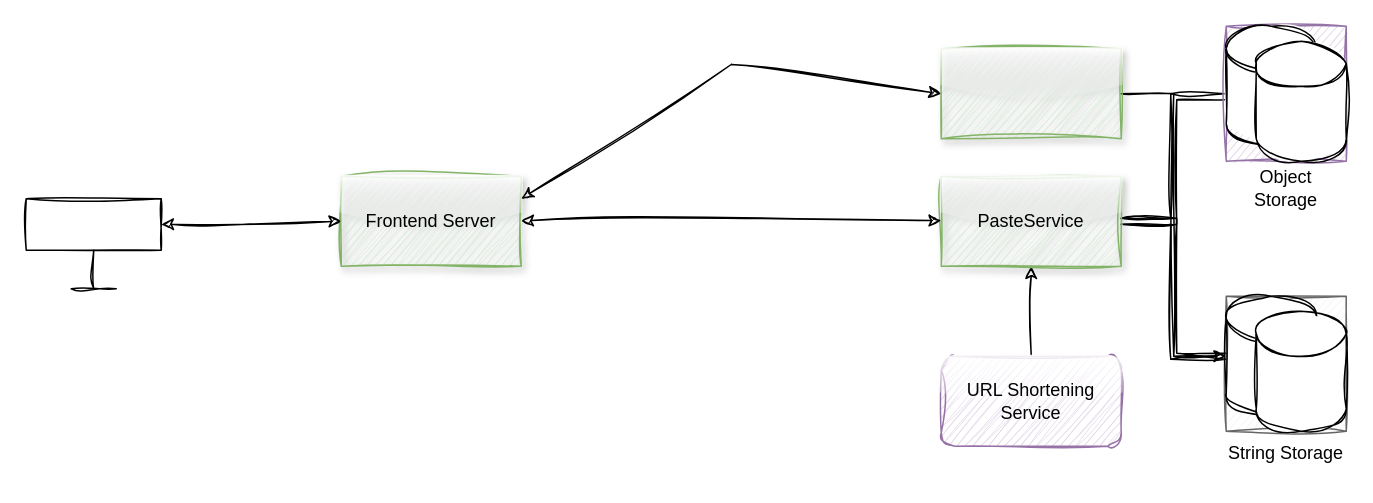
This 1373x503 diagram has some shape labels left out. The shapes that lost their labels are listed below. From the top down, each one's centre as x and y in pixels, then its label:
At point (1032, 95): "Content Service".
At point (93, 223): "User".
